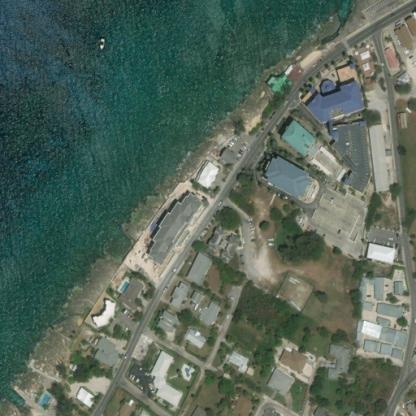ship: (94, 32, 108, 52)
